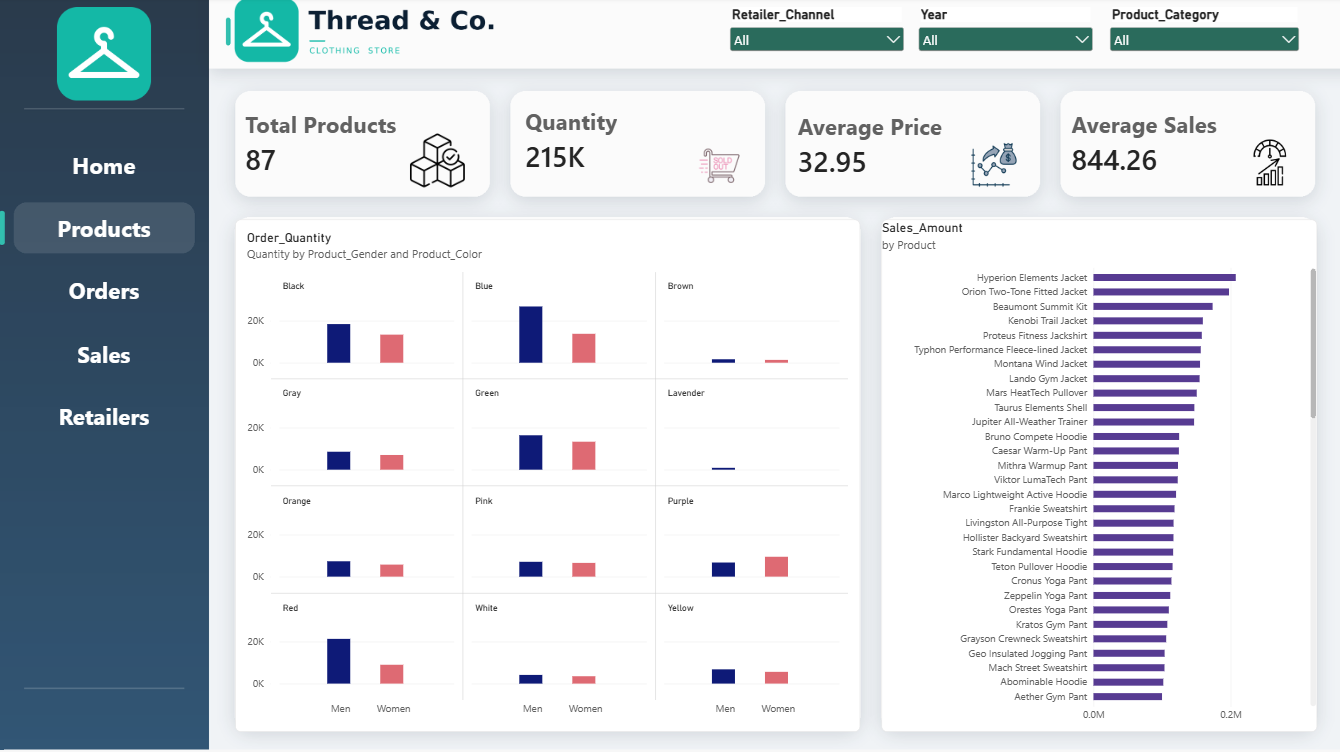

The page's visual inventory and layout, read from the dashboard file:
{"tool":"powerbi","page":{"name":"Products","canvas":[1920,1080],"ordinal":1},"visuals":[{"type":"image","box":[50,14.3,200,133.9],"z":0},{"type":"image","box":[335.7,0,371.4,94.6],"z":1000},{"type":"slicer","fields":{"Values":["Products.Product_Category"]},"box":[1581.8,14,280.5,81],"z":2000},{"type":"slicer","fields":{"Values":["Calendar.Year"]},"box":[1309.1,14,258.7,81],"z":3000},{"type":"shape","box":[50,390,200,59],"z":4000},{"type":"shape","box":[50,210,200,59],"z":5000},{"type":"shape","box":[50,300,200,59],"z":6000},{"type":"shape","box":[50,570,200,59],"z":7000},{"type":"columnChart","title":"Order_Quantity ","fields":{"Category":["Products.Product_Gender"],"Rows":["Products.Product_Color"],"Y":["Sum(Orders. Order_Quantity )"]},"box":[337,318,893,732],"z":8000},{"type":"clusteredBarChart","fields":{"Category":["Products.Product_Name"],"Y":["Sum(Orders.Sales_Amount)"]},"box":[1260,318,622,732],"z":8001},{"type":"slicer","fields":{"Values":["Retailers.Retailer_Channel"]},"box":[1039.5,14,258.7,81],"z":8002},{"type":"cardVisual","fields":{"Data":["Count(Products.Product_Name)"]},"box":[335.1,141.8,356.9,137.1],"z":8003},{"type":"cardVisual","fields":{"Data":["Sum(Orders. Order_Quantity )"]},"box":[735.6,141.8,355.3,130.9],"z":8004},{"type":"cardVisual","fields":{"Data":["Avg(Orders.Product_Price)"]},"box":[1125.2,141.8,360,143.4],"z":8005},{"type":"cardVisual","fields":{"Data":["Measures (3).Average Sales"]},"box":[1516.4,135.6,361.6,149.6],"z":8006},{"type":"image","box":[561,194.8,130.9,77.9],"z":8007},{"type":"image","box":[972.5,204.2,118.4,74.8],"z":8008},{"type":"image","box":[1379.2,207.3,85.7,65.5],"z":8009},{"type":"image","box":[1767.3,204.2,95.1,65.5],"z":8010},{"type":"shape","box":[50,480,200,59],"z":9010}]}

Visuals, with their boxes on the page's 1920x1080 design canvas (x1, y1, x2, y2). These are canvas units, not pixel positions in the 1340x752 screenshot, which may show the page scaled, cropped or inside an application window:
image: bbox=[50, 14, 250, 148]
image: bbox=[336, 0, 707, 95]
slicer - Products.Product_Category: bbox=[1582, 14, 1862, 95]
slicer - Calendar.Year: bbox=[1309, 14, 1568, 95]
shape: bbox=[50, 390, 250, 449]
shape: bbox=[50, 210, 250, 269]
shape: bbox=[50, 300, 250, 359]
shape: bbox=[50, 570, 250, 629]
"Order_Quantity " columnChart: bbox=[337, 318, 1230, 1050]
clusteredBarChart - Products.Product_Name x Sum(Orders.Sales_Amount): bbox=[1260, 318, 1882, 1050]
slicer - Retailers.Retailer_Channel: bbox=[1040, 14, 1298, 95]
cardVisual - Count(Products.Product_Name): bbox=[335, 142, 692, 279]
cardVisual - Sum(Orders. Order_Quantity ): bbox=[736, 142, 1091, 273]
cardVisual - Avg(Orders.Product_Price): bbox=[1125, 142, 1485, 285]
cardVisual - Measures (3).Average Sales: bbox=[1516, 136, 1878, 285]
image: bbox=[561, 195, 692, 273]
image: bbox=[972, 204, 1091, 279]
image: bbox=[1379, 207, 1465, 273]
image: bbox=[1767, 204, 1862, 270]
shape: bbox=[50, 480, 250, 539]
